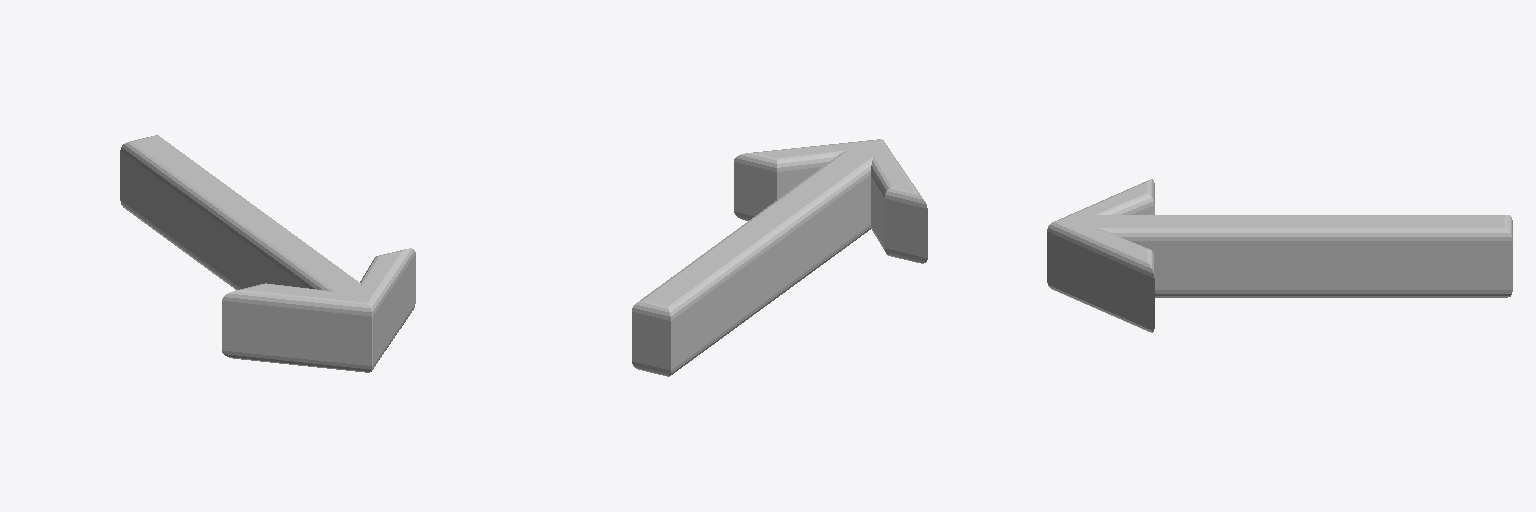
File: arrow_obj_final.obj
3 renders of one model, left to right at view 1: azimuth 30°, elevation 25°; view 2: azimuth 150°, elevation 25°; view 3: azimuth 270°, elevation 25°, orthographic.
Parts seen in each view (by area): view 1: polymsh RootNode UXRARROWFBXASC046fbx Sketchfab_model polymsh_Wo, polymsh_Material4_0 polymsh RootNode UXRARROWFBXASC046fbx Sketch; view 2: polymsh RootNode UXRARROWFBXASC046fbx Sketchfab_model polymsh_Wo, polymsh_Material4_0 polymsh RootNode UXRARROWFBXASC046fbx Sketch; view 3: polymsh RootNode UXRARROWFBXASC046fbx Sketchfab_model polymsh_Wo, polymsh_Material4_0 polymsh RootNode UXRARROWFBXASC046fbx Sketch.
Boxes of the visible parts, box(x1,y1,x2,y2) form: polymsh RootNode UXRARROWFBXASC046fbx Sketchfab_model polymsh_Wo: box(120, 135, 415, 372); polymsh_Material4_0 polymsh RootNode UXRARROWFBXASC046fbx Sketch: box(120, 169, 415, 347); polymsh RootNode UXRARROWFBXASC046fbx Sketchfab_model polymsh_Wo: box(632, 139, 927, 376); polymsh_Material4_0 polymsh RootNode UXRARROWFBXASC046fbx Sketch: box(632, 140, 927, 351); polymsh RootNode UXRARROWFBXASC046fbx Sketchfab_model polymsh_Wo: box(1047, 179, 1512, 332); polymsh_Material4_0 polymsh RootNode UXRARROWFBXASC046fbx Sketch: box(1047, 215, 1512, 309).
Bounding box in the file's own units: 0.24 × 0.082 × 0.4983.